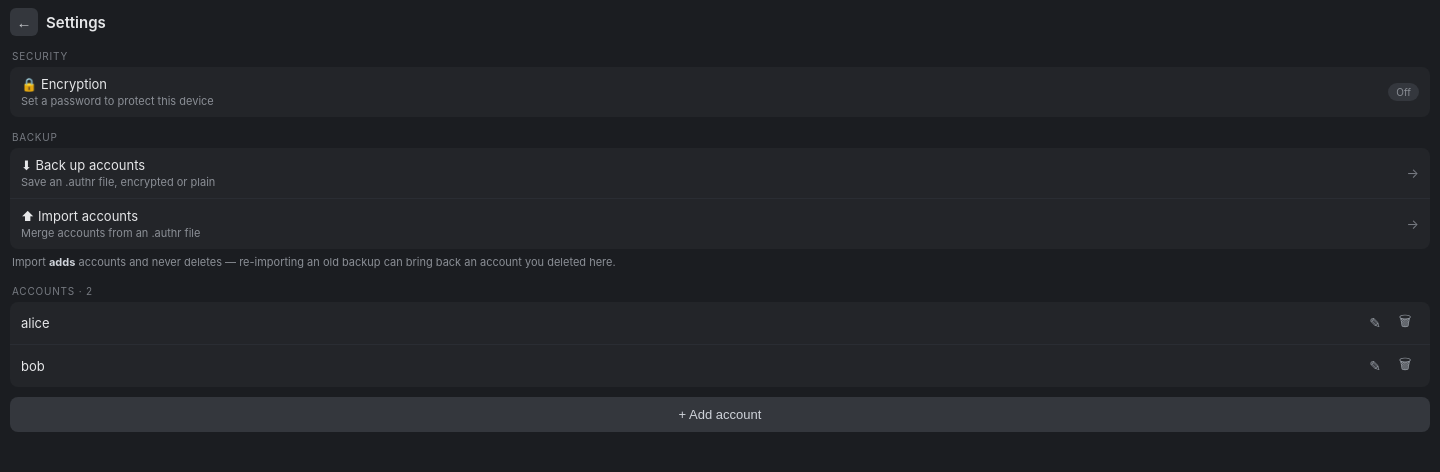
Settings manage page (§9.1 scenarios 5–10) › keeps edit mode and shows .rename-error on a name collision
Expected: the text "alice" is shown, [21,315,50,331]
Step 1. Click the button titled "Rename" in the row of "alice" → [1375, 323], box [1361,310,1389,336]
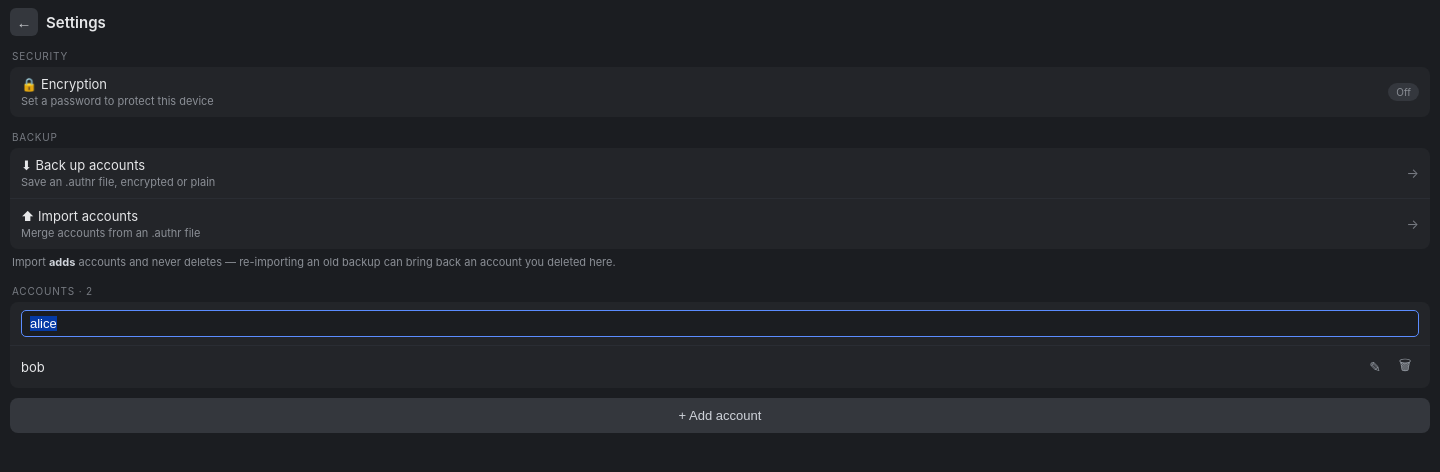
Expected: the field with class "rename-input" is shown
Step 2. Replace the text in the field with class "rename-input" with "bob" → [720, 323], box [21,310,1419,337]
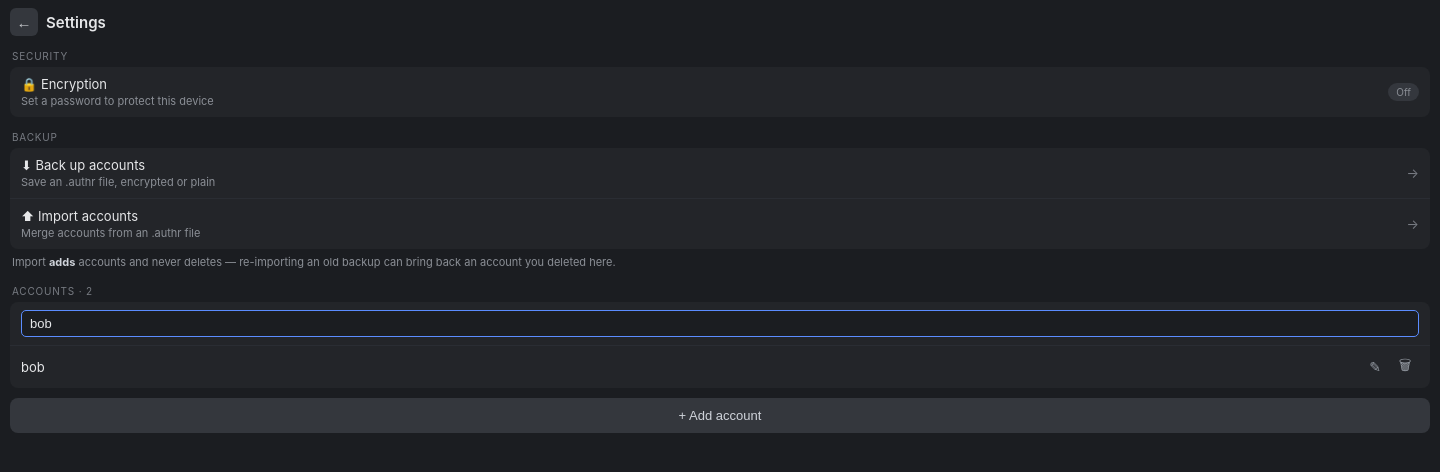
Step 3. Press Enter in the field with class "rename-input", box [21,310,1419,337]
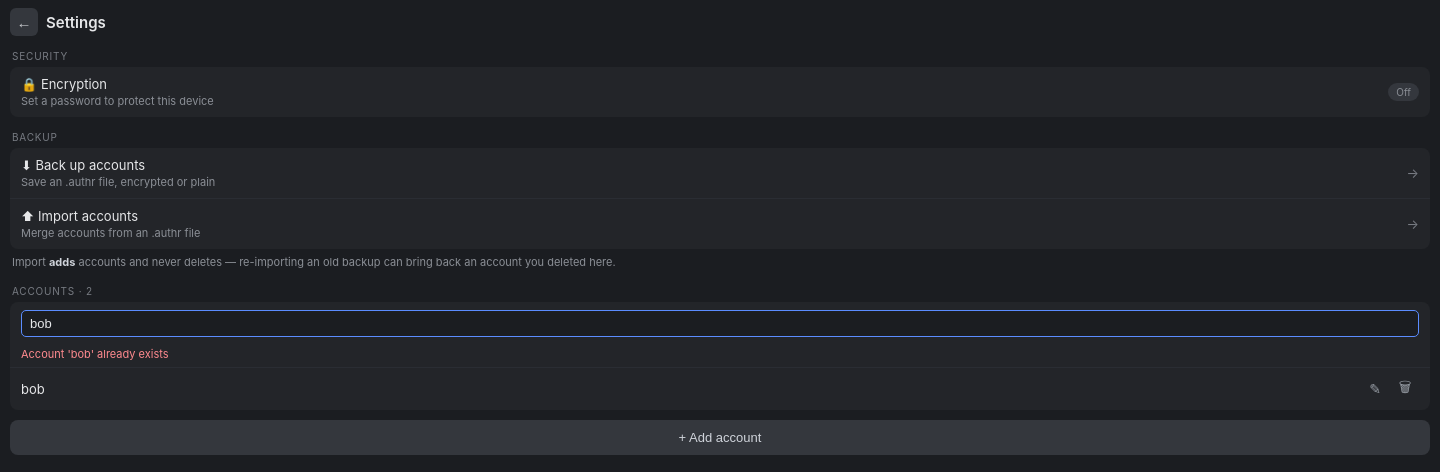
Expected: the text with class "rename-error" shows "already exists", [21,347,168,361]
